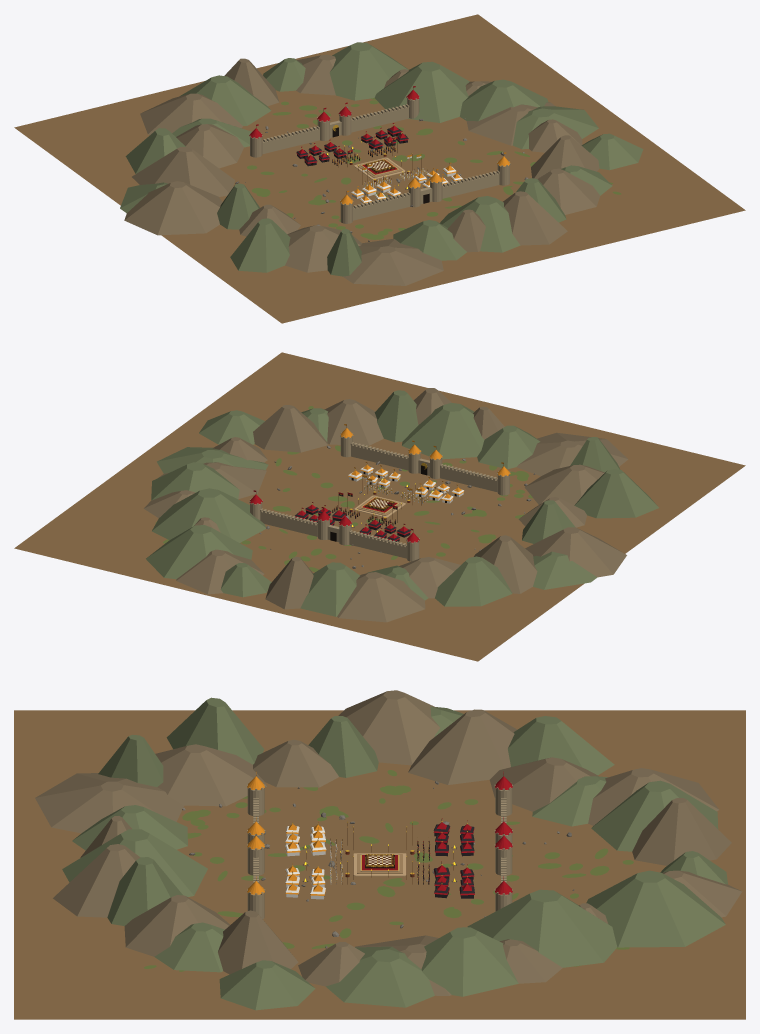
File: royal-chess-scene-src.glb
3 views of the same model, one above another, from view 1: azimuth 30°, elevation 25°; view 2: azimuth 150°, elevation 25°; view 3: azimuth 270°, elevation 25° (orthographic). The views are drawn at different scales.
Parts seen in each view (by area): view 1: Ground, Hill17, Hill4, Hill23, Hill6, Hill15, Hill20, Hill11, Hill27, Hill2, Hill26, Hill10 (+21 smaller); view 2: Ground, Hill4, Hill26, Hill11, Hill6, Hill20, Hill14, Hill17, Hill31, Hill23, Hill10, Hill15 (+21 smaller); view 3: Ground, Hill6, Hill4, Hill15, Hill23, Hill21, Hill17, Hill2, Hill0, Hill9, Hill14, Hill10 (+25 smaller).
Boxes of the visible parts, left/top/right/bottom form: Ground: left=14, top=14, right=745, bottom=323; Hill17: left=124, top=181, right=222, bottom=235; Hill4: left=374, top=61, right=469, bottom=122; Hill23: left=343, top=238, right=443, bottom=285; Hill6: left=329, top=42, right=408, bottom=100; Hill15: left=132, top=147, right=234, bottom=196; Hill20: left=230, top=218, right=290, bottom=272; Hill11: left=140, top=93, right=242, bottom=134; Hill27: left=503, top=191, right=567, bottom=245; Hill2: left=459, top=79, right=548, bottom=121; Hill26: left=440, top=196, right=520, bottom=252; Hill10: left=179, top=75, right=271, bottom=125; Ground: left=14, top=352, right=745, bottom=661; Hill4: left=152, top=488, right=266, bottom=542; Hill26: left=402, top=402, right=484, bottom=459; Hill11: left=337, top=572, right=425, bottom=622; Hill6: left=146, top=525, right=252, bottom=579; Hill20: left=574, top=469, right=658, bottom=518; Hill14: left=435, top=556, right=512, bottom=606; Hill17: left=525, top=527, right=626, bottom=577; Hill31: left=253, top=405, right=327, bottom=452; Hill23: left=516, top=432, right=628, bottom=476; Hill10: left=300, top=562, right=360, bottom=616; Hill15: left=474, top=535, right=537, bottom=593; Ground: left=14, top=710, right=745, bottom=1019; Hill6: left=586, top=870, right=725, bottom=947; Hill4: left=467, top=889, right=617, bottom=967; Hill15: left=408, top=709, right=517, bottom=784; Hill23: left=35, top=773, right=184, bottom=833; Hill21: left=155, top=744, right=266, bottom=806; Hill17: left=338, top=690, right=440, bottom=765; Hill2: left=421, top=927, right=518, bottom=996; Hill0: left=325, top=946, right=434, bottom=1007; Hill9: left=632, top=798, right=731, bottom=865; Hill14: left=508, top=716, right=614, bottom=775; Hill10: left=591, top=780, right=718, bottom=851.
Size of the model in its own units: 267 by 19.78 by 260.
